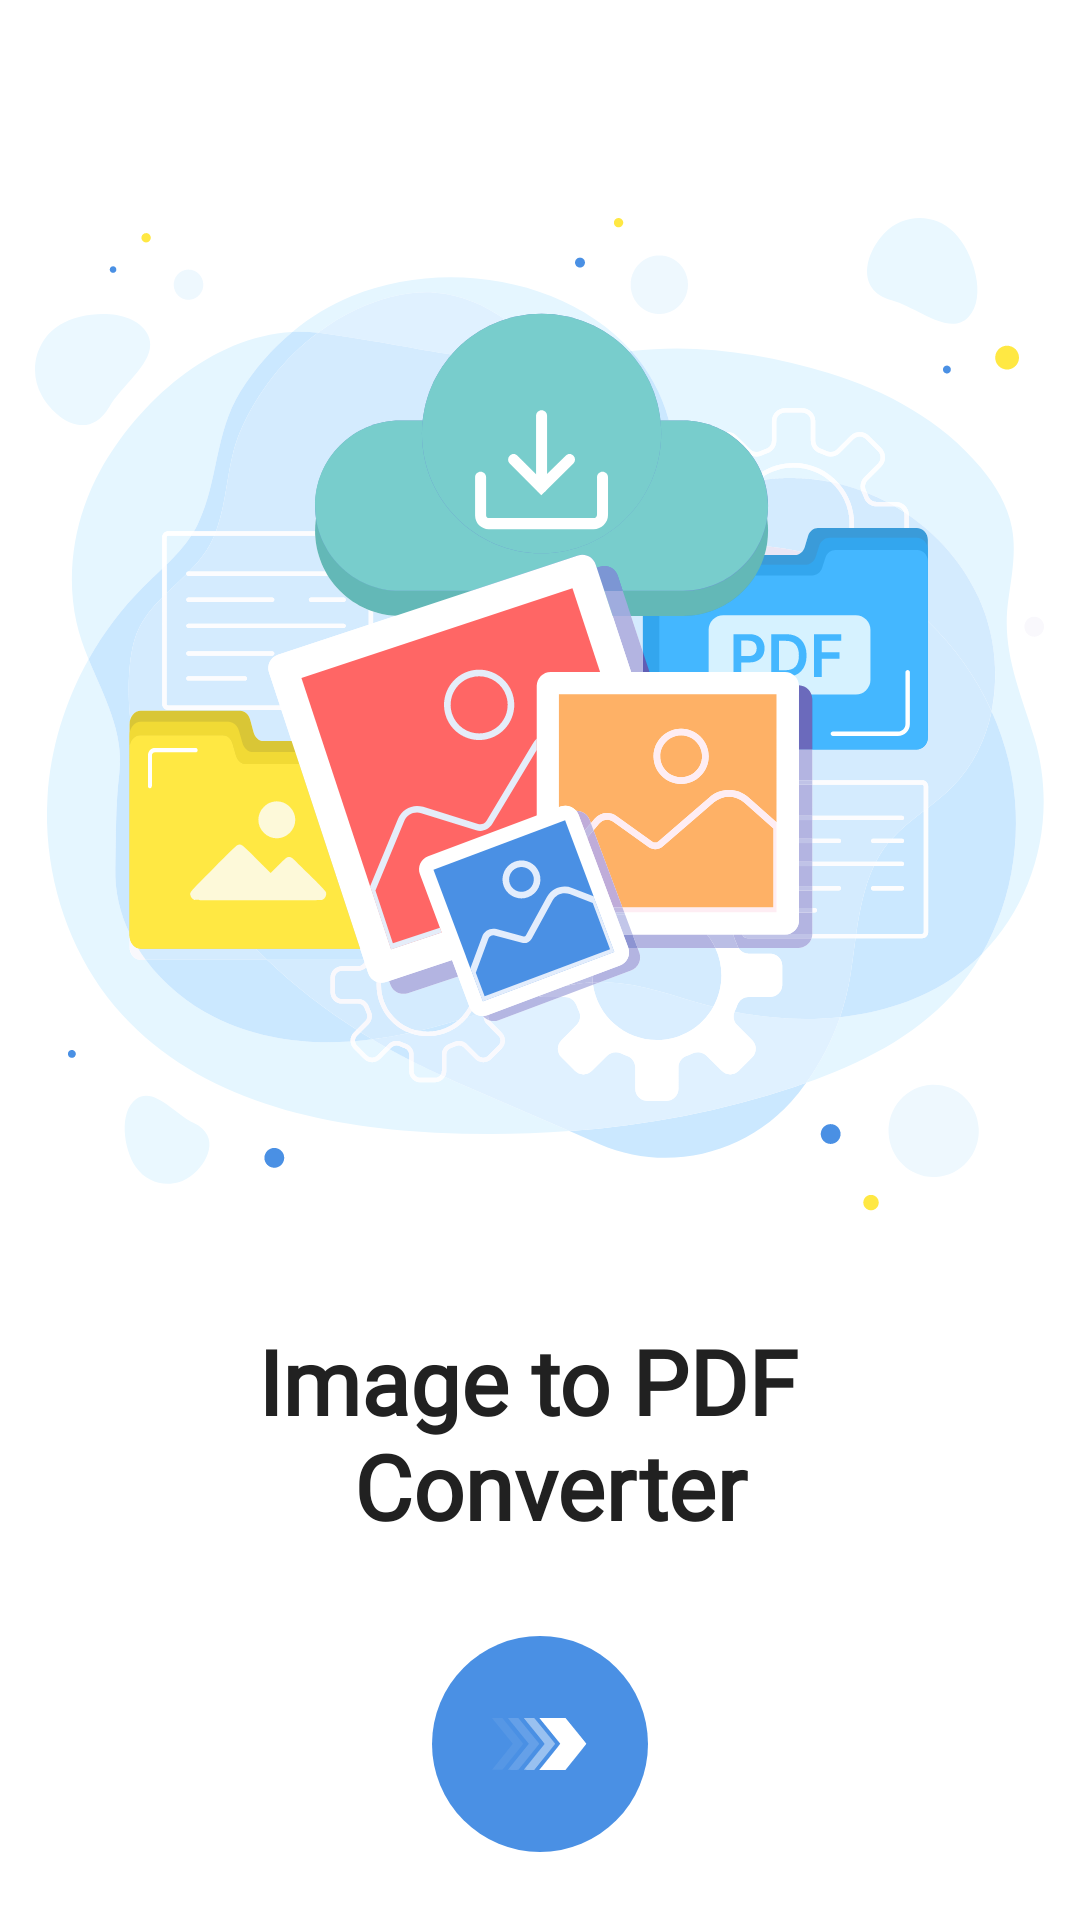

Named icons in this screenshot (1080 x 1920) and their centers, (x,y):
arrow: (540,1744)
